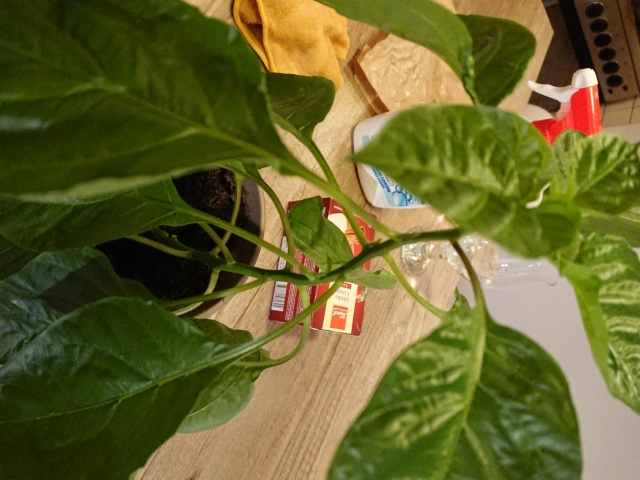Franck Apple Cinnamon Tea 60g: (265, 194, 380, 339)
